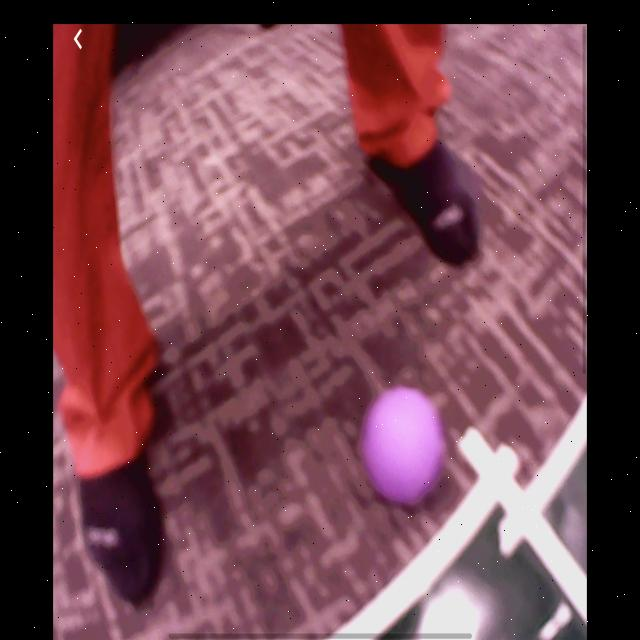ball: (364, 386, 447, 506)
